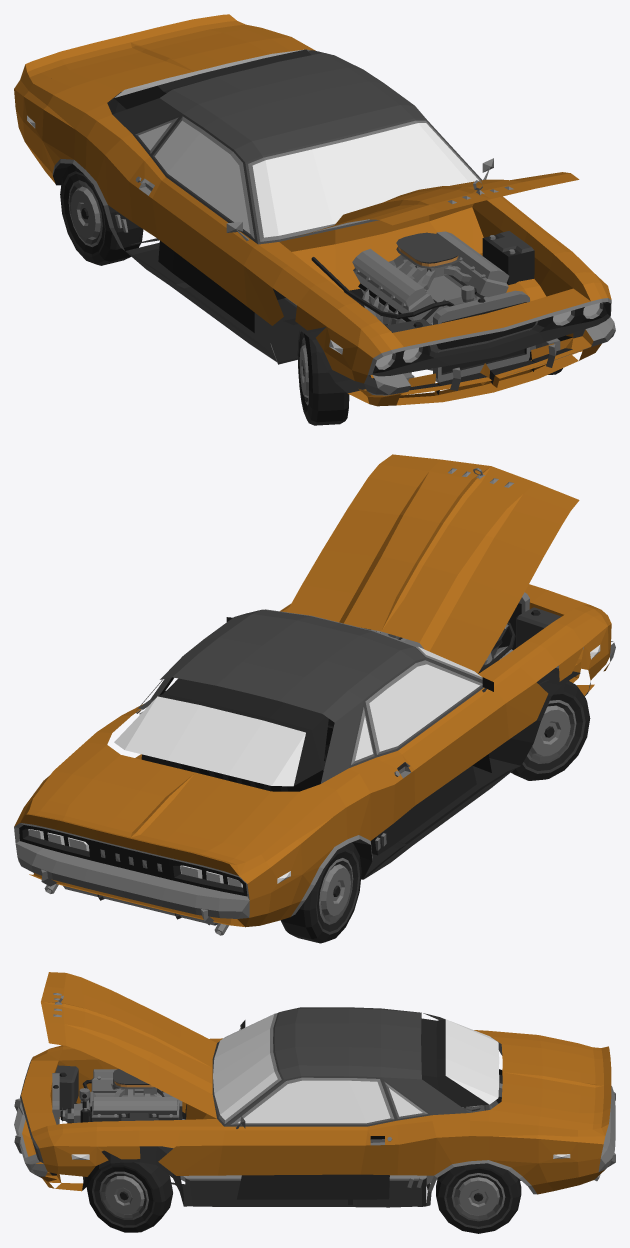
The model's file is car-muscle-coupe-hoodup.glb.
The picture shows the model from 3 angles, top to bottom: view 1: azimuth 30°, elevation 25°; view 2: azimuth 150°, elevation 25°; view 3: azimuth 270°, elevation 25°; orthographic projection. The views are drawn at different scales.
Visible parts, largest first — view 1: Body, Trunk, Engine, Engine_Details, Wheel RR, Hood, Wheel FR, Cables; view 2: Body, Hood, Trunk, Wheel RR, Wheel FR, Engine_Details, Chassis; view 3: Body, Hood, Trunk, Wheel FL, Wheel RL, Engine, Engine_Details, Chassis.
Boxes of the visible parts, x1,y1,x2,y2 form: Body: (14,14,615,406); Trunk: (32,15,290,102); Engine: (352,231,509,370); Engine_Details: (386,231,534,382); Wheel RR: (60,163,143,265); Hood: (290,172,579,238); Wheel FR: (297,330,349,425); Cables: (311,257,454,318); Body: (14,584,615,927); Hood: (287,454,579,673); Trunk: (32,745,298,870); Wheel RR: (280,842,361,943); Wheel FR: (511,676,590,780); Engine_Details: (498,592,561,650); Chassis: (44,665,558,935); Body: (14,1007,615,1207); Hood: (41,972,216,1118); Trunk: (490,1036,611,1124); Wheel FL: (86,1162,172,1232); Wheel RL: (436,1163,521,1233); Engine: (60,1069,182,1153); Engine_Details: (52,1065,158,1124); Chassis: (59,1083,600,1184).
Size of the model in its own units: 2.01 by 1.72 by 4.86.
